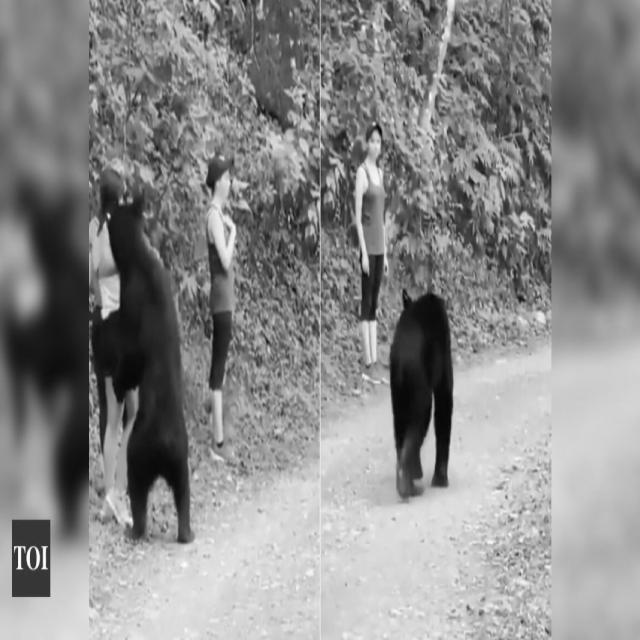Bear: (104, 198, 195, 544), (388, 288, 455, 501)
